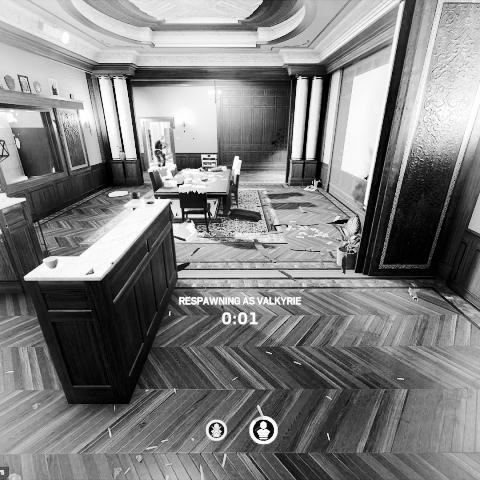Character: (153, 134, 170, 168)
Head: (159, 135, 164, 140)
